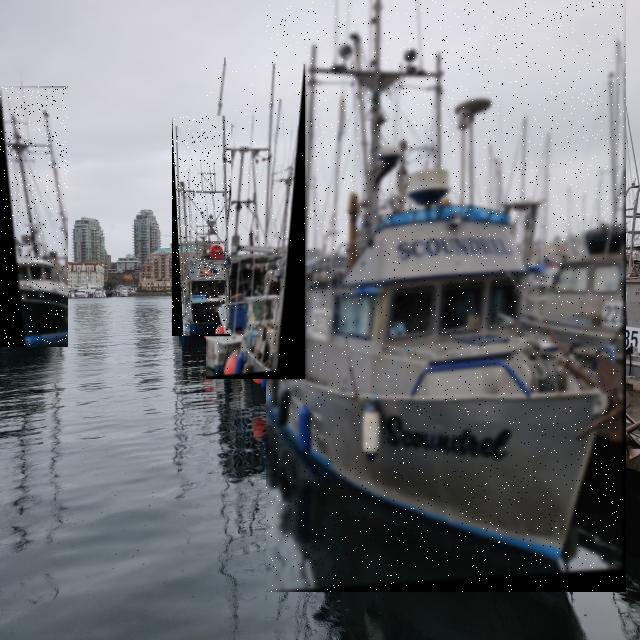boat: (266, 0, 626, 592), (206, 64, 305, 379), (0, 86, 68, 347), (172, 116, 231, 336)
